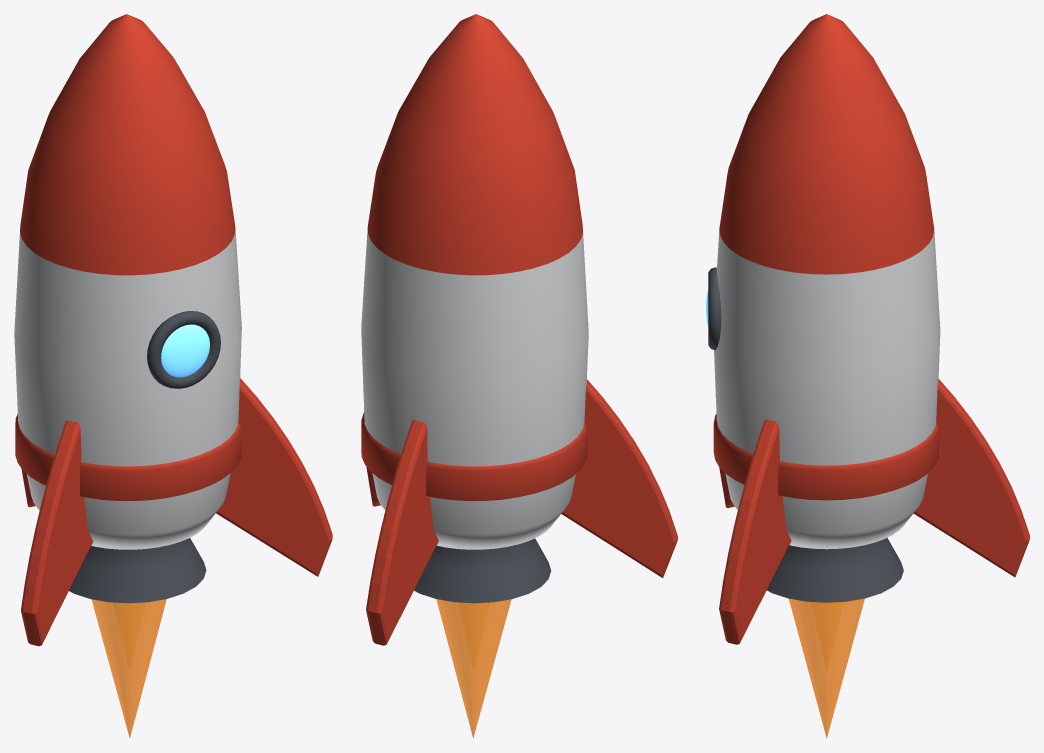
The model's file is rocket.glb.
3 renders of one model, left to right at view 1: azimuth 30°, elevation 25°; view 2: azimuth 150°, elevation 25°; view 3: azimuth 270°, elevation 25°, orthographic.
Visible parts, largest first — view 1: Rocket; view 2: Rocket; view 3: Rocket.
Part boxes in pixels (x1,y1,x2,y2): Rocket: (14, 14, 332, 738); Rocket: (361, 14, 677, 738); Rocket: (706, 14, 1029, 738).
Bounding box in the file's own units: 1.76 × 3.93 × 1.6.
